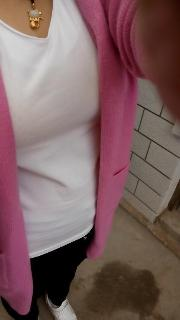long sleeve top: (0, 0, 155, 261)
